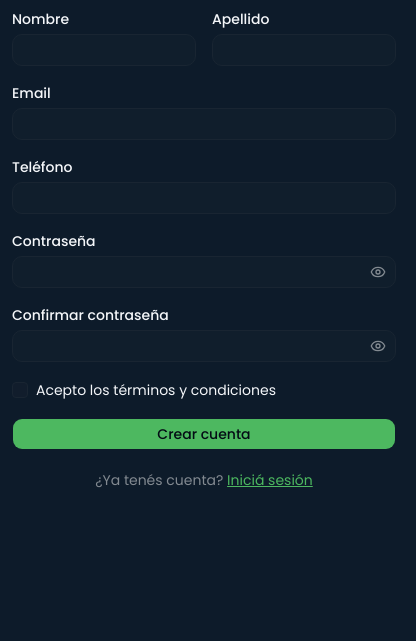
RegisterForm › muestra un error cuando las contraseñas no coinciden
Type "Sup3rSecreto!" into the password field labelled "Contraseña". click: (204, 272)
box: left=12, top=256, right=396, bottom=288
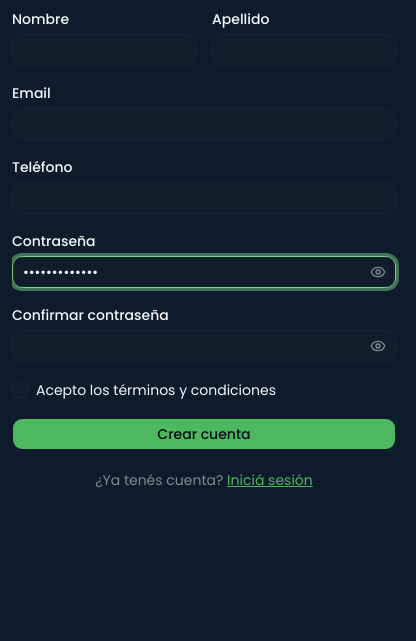
Type "OtraCosa!" into the password field labelled "Confirmar contraseña". click: (204, 346)
box: left=12, top=330, right=396, bottom=362
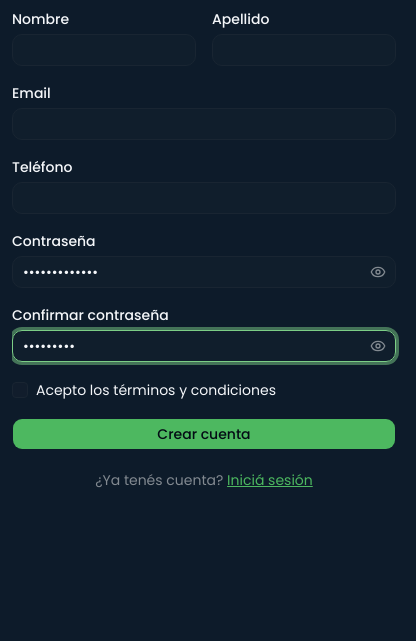
Click the button "Crear cuenta". click: (204, 434)
box: left=12, top=418, right=396, bottom=450
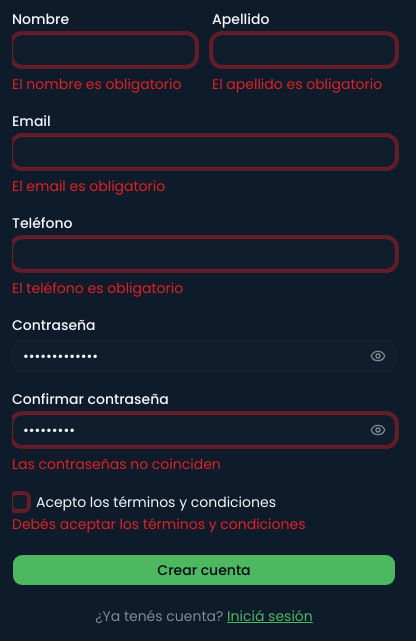
Result: the text "Las contraseñas no coinciden" is shown at left=12, top=454, right=221, bottom=474
